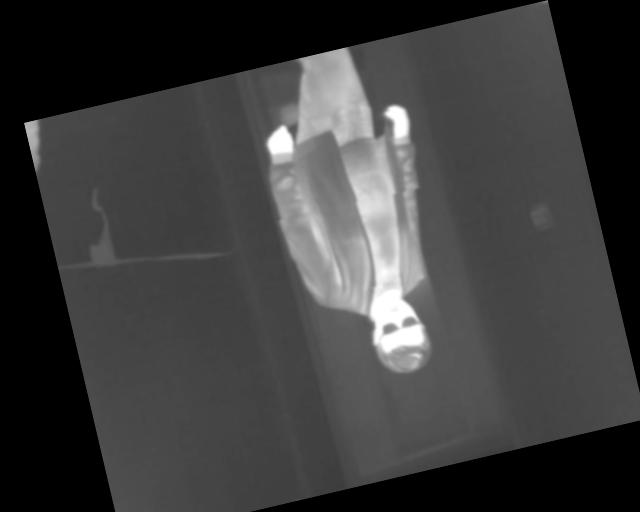face: (363, 290, 437, 380)
